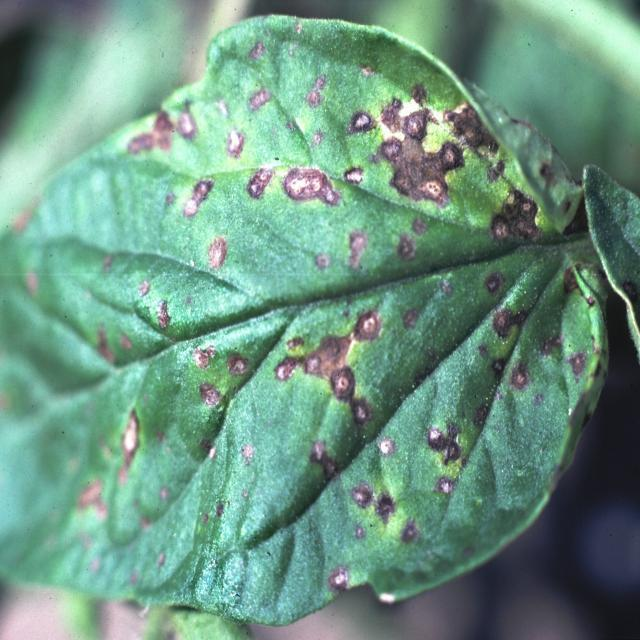Septoria: (50, 51, 590, 575)
